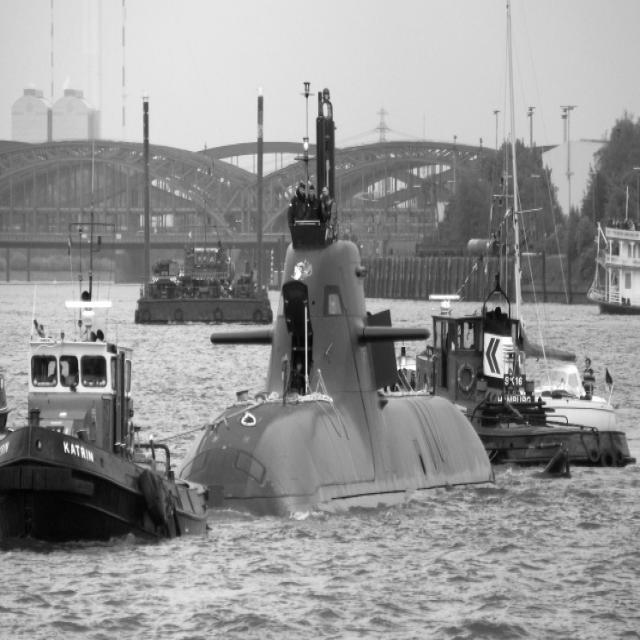submarine: (179, 121, 498, 538)
